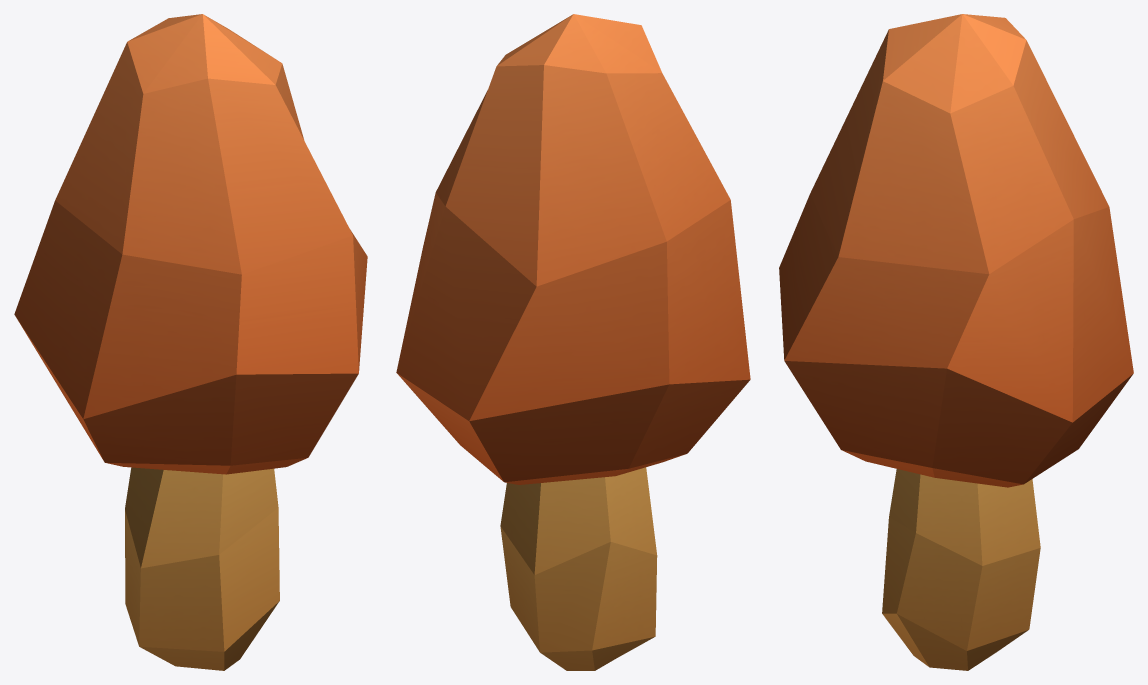
File: mushroom_orange_small.fbx
3 views of the same model, side by side, from view 1: azimuth 30°, elevation 25°; view 2: azimuth 150°, elevation 25°; view 3: azimuth 270°, elevation 25° (orthographic).
Parts seen in each view (by area): view 1: mushroom_orange_small; view 2: mushroom_orange_small; view 3: mushroom_orange_small.
Part boxes in pixels (left/top/right/bottom): mushroom_orange_small: left=14, top=14, right=367, bottom=670; mushroom_orange_small: left=396, top=14, right=750, bottom=670; mushroom_orange_small: left=779, top=14, right=1133, bottom=670.
Size of the model in its own units: 0.45 by 0.9 by 0.45.
1 material, 1 textured.
